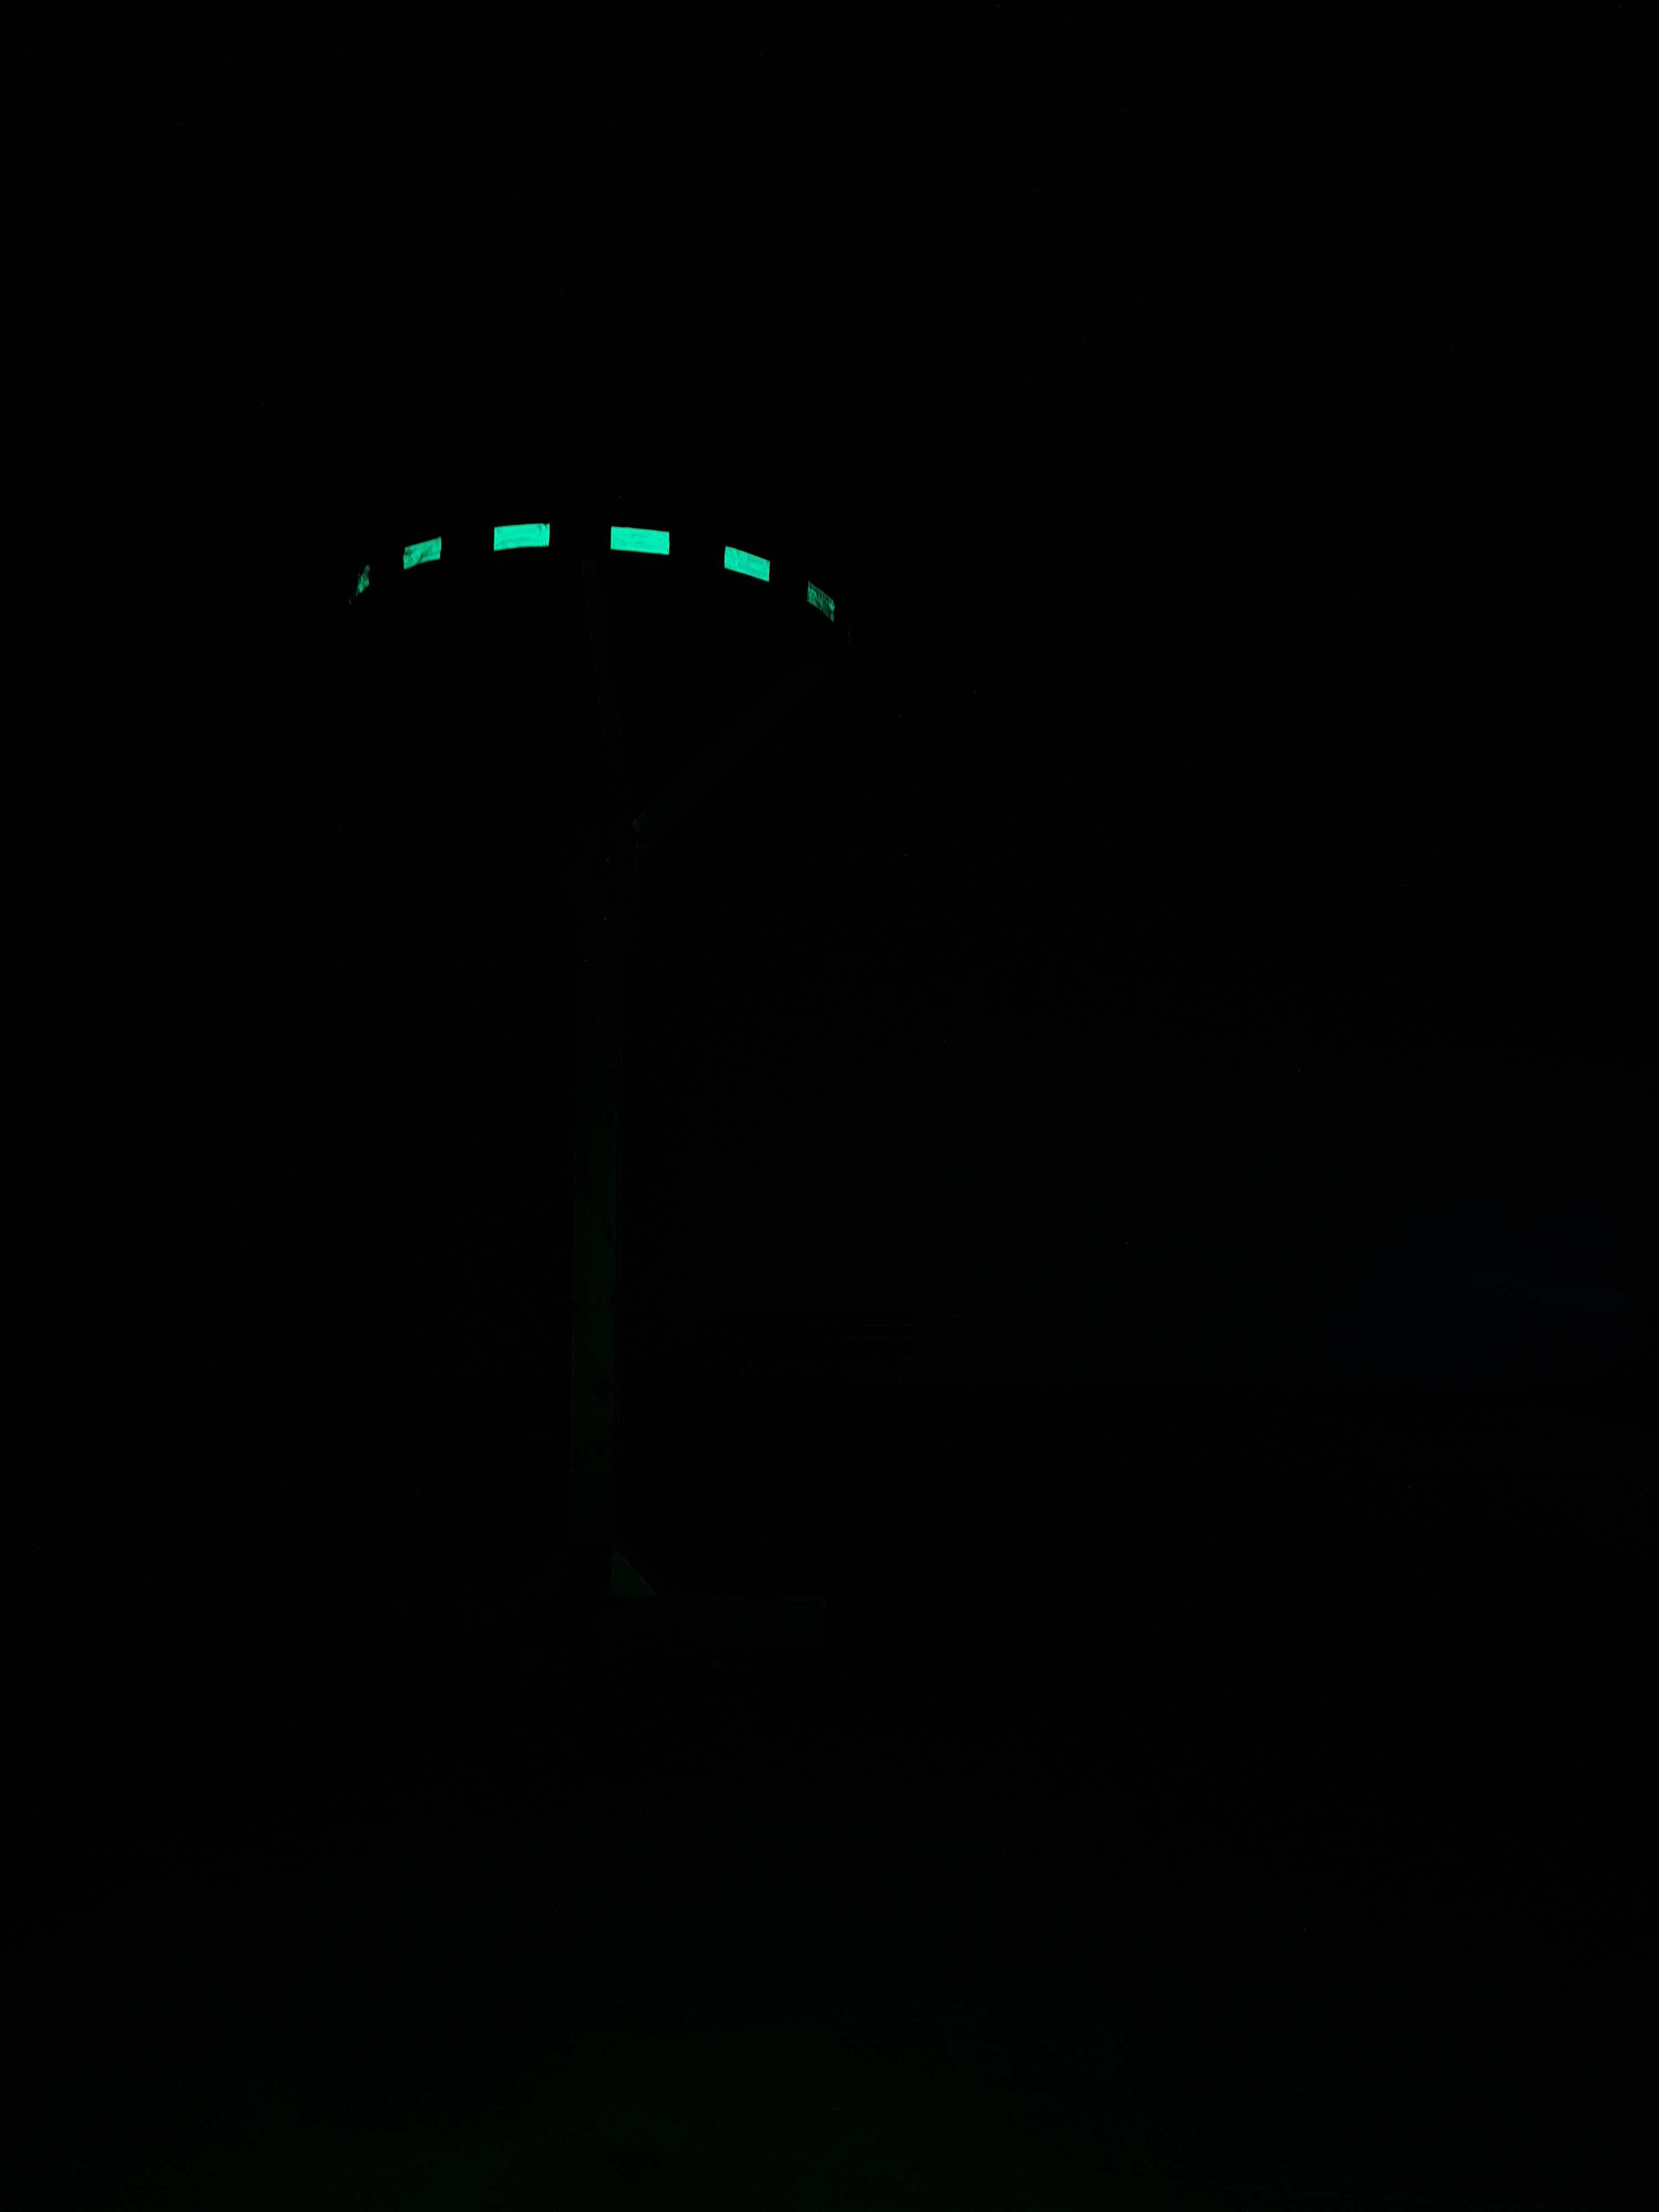hoop: (343, 510, 842, 634)
